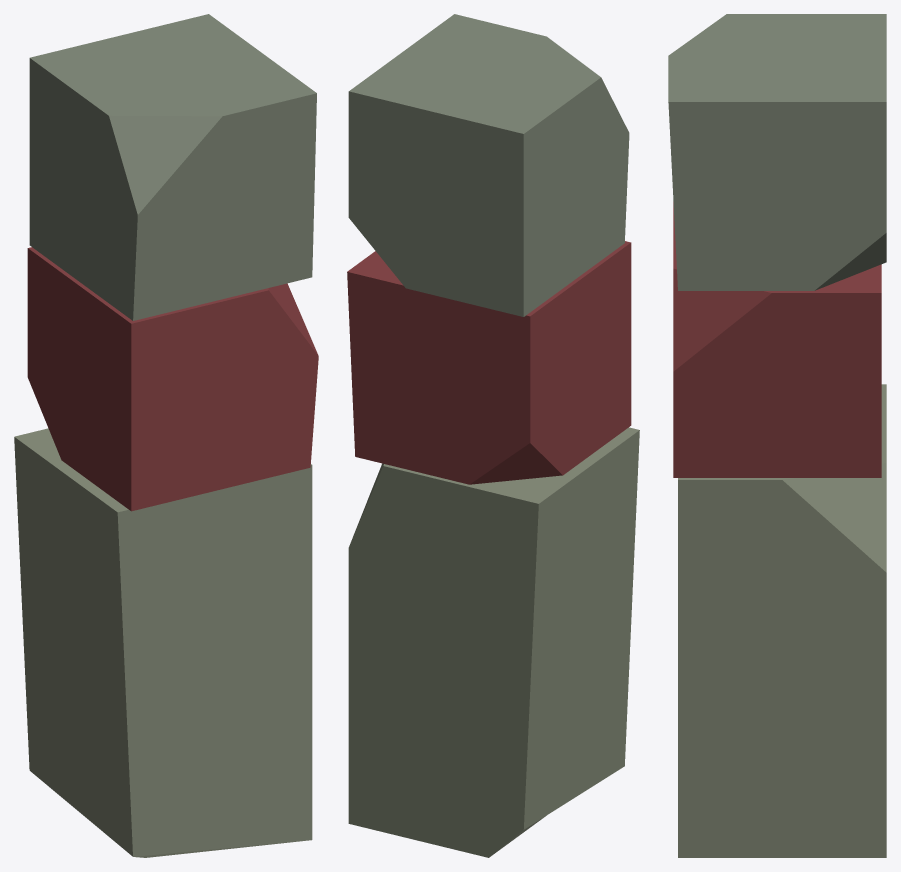
The model's file is railing_corner.fbx.
3 renders of one model, left to right at view 1: azimuth 30°, elevation 25°; view 2: azimuth 150°, elevation 25°; view 3: azimuth 270°, elevation 25°, orthographic. The views are drawn at different scales.
Visible parts, largest first — view 1: railing_corner; view 2: railing_corner; view 3: railing_corner.
Boxes of the visible parts, x1=… form: railing_corner: x1=14, y1=14, x2=318, y2=857; railing_corner: x1=347, y1=14, x2=639, y2=857; railing_corner: x1=668, y1=14, x2=886, y2=857.
Size of the model in its own units: 27.72 by 100 by 26.15.
